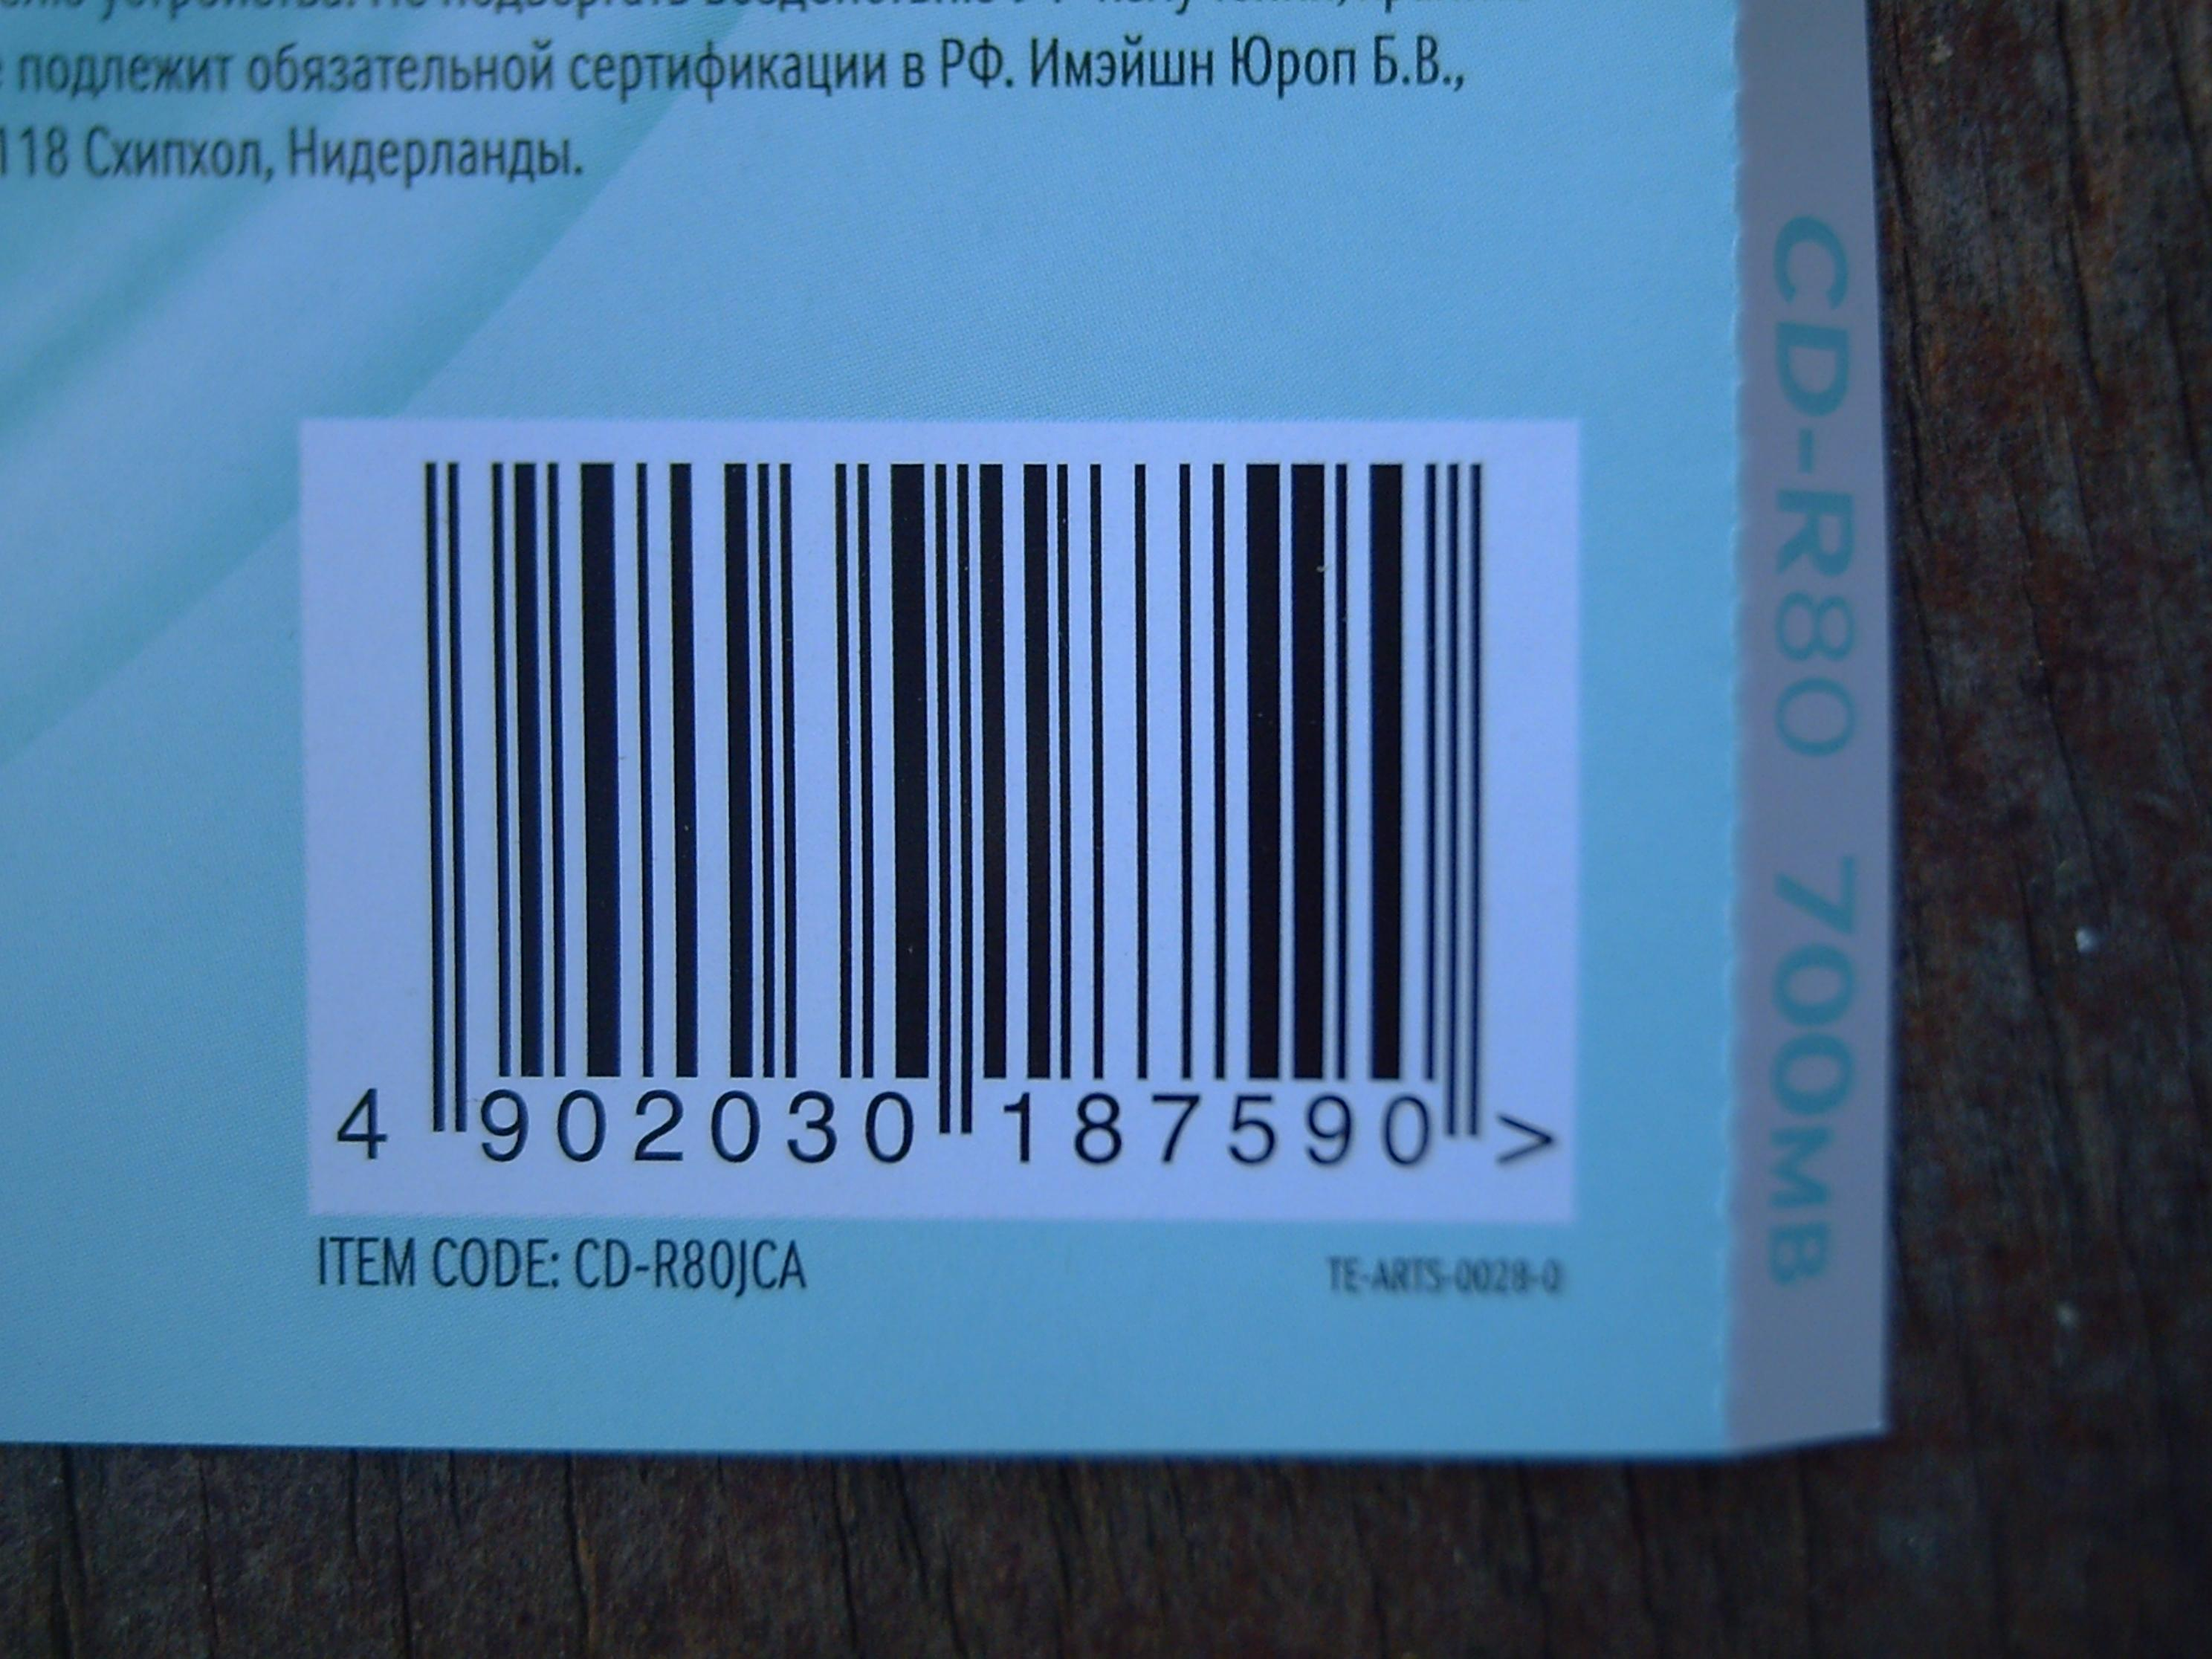barcode: (303, 423, 1568, 1216)
